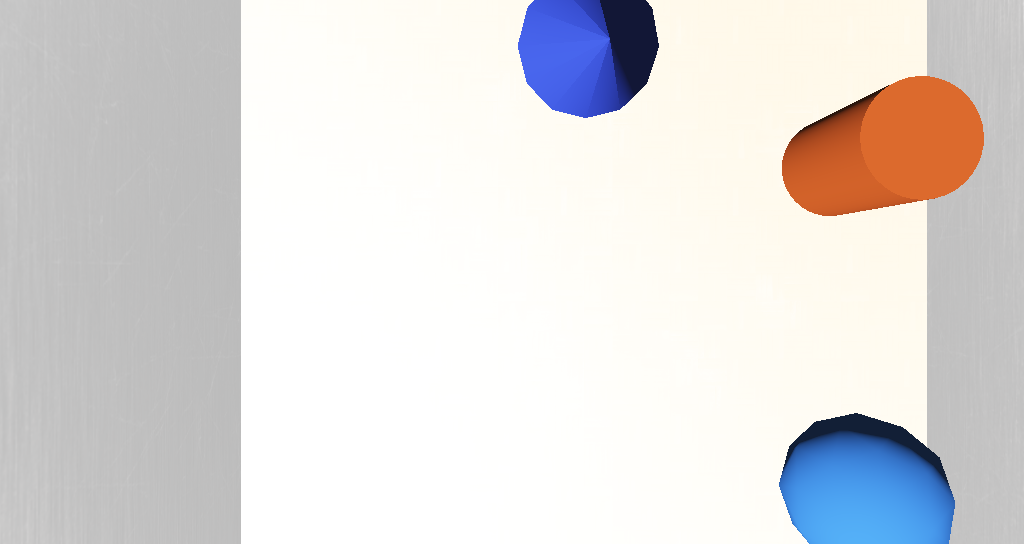cone: (593, 217, 647, 251)
cylinder: (482, 169, 542, 231)
sphere: (589, 313, 650, 356)
